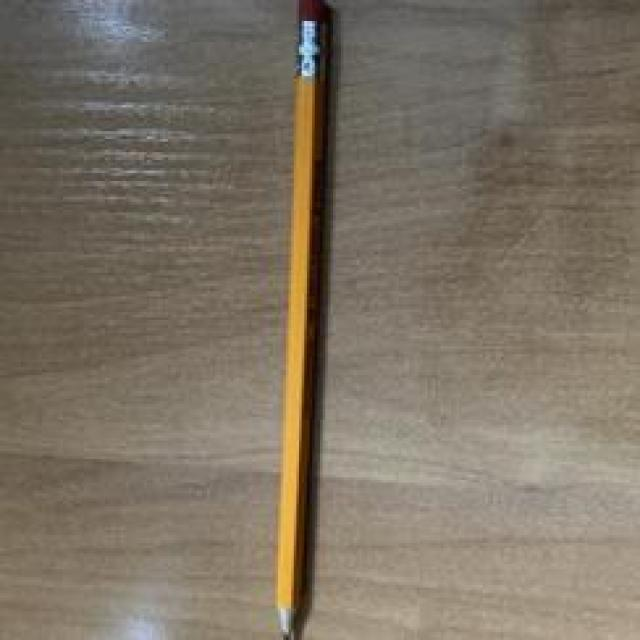pencil: (276, 0, 330, 640)
